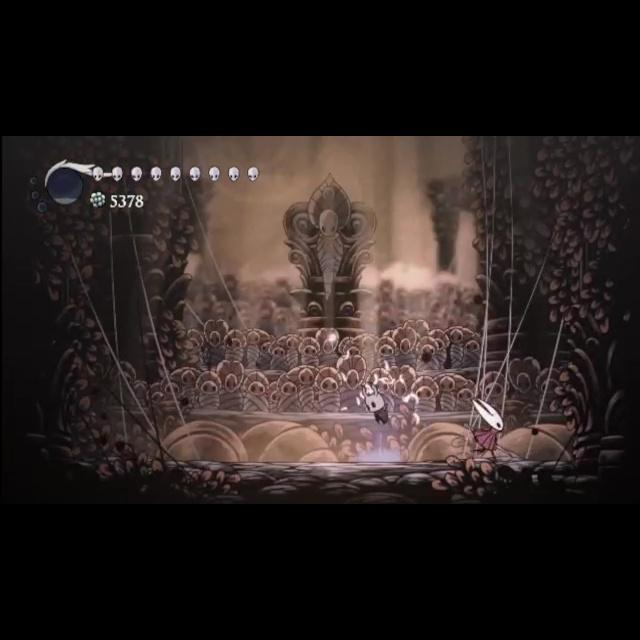Enemy: (462, 392, 518, 464)
Player: (358, 382, 398, 428)
